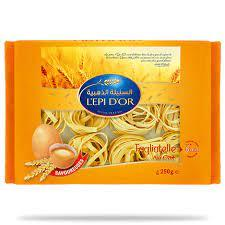Tagliatelle: (7, 42, 221, 184)
